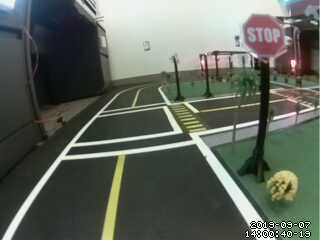Stop_Sign: (237, 10, 291, 61)
